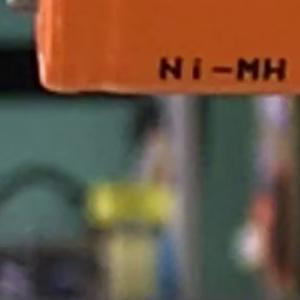keyword: (149, 48, 296, 90)
